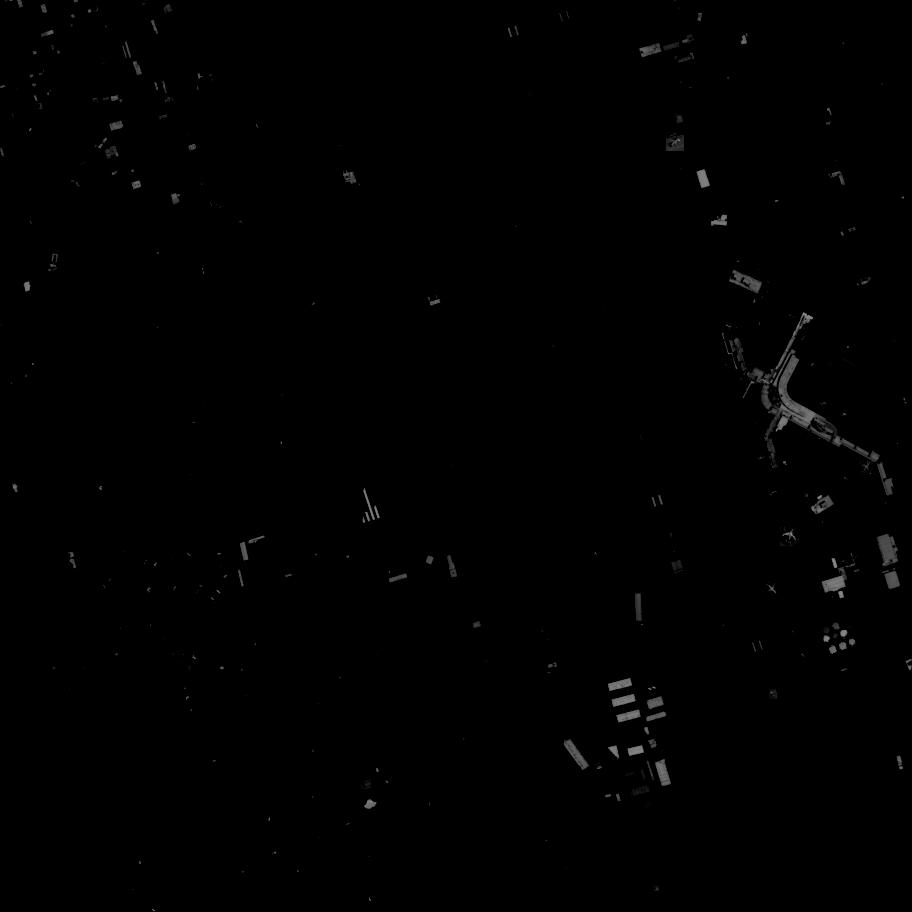plane: (782, 492, 806, 516), (773, 512, 796, 534), (763, 577, 784, 599), (780, 526, 799, 547), (763, 484, 784, 502), (667, 134, 685, 153), (814, 515, 832, 534), (798, 487, 816, 506), (817, 476, 836, 492), (749, 419, 765, 433), (772, 505, 789, 518), (878, 498, 892, 512), (860, 461, 874, 474), (762, 357, 775, 371), (794, 689, 807, 702), (761, 473, 774, 486), (780, 458, 793, 471), (770, 341, 783, 354), (840, 472, 854, 484), (747, 431, 761, 443), (673, 162, 686, 174), (734, 255, 746, 268), (783, 311, 796, 323), (716, 282, 728, 294), (778, 466, 790, 478), (733, 324, 745, 336), (755, 454, 768, 465), (804, 455, 816, 466), (866, 471, 878, 482), (868, 482, 880, 493), (741, 329, 753, 340), (473, 201, 484, 212), (758, 294, 769, 305), (717, 319, 728, 330), (753, 265, 763, 276), (808, 599, 819, 609), (824, 446, 834, 456), (746, 346, 756, 356), (736, 375, 746, 385), (763, 287, 774, 296), (676, 78, 687, 87), (765, 278, 776, 287), (779, 450, 790, 459), (803, 669, 812, 680), (797, 651, 808, 660), (804, 437, 813, 447), (749, 538, 759, 547), (726, 322, 735, 332), (776, 335, 787, 343), (769, 690, 778, 699), (592, 550, 601, 559), (720, 353, 729, 362), (722, 362, 731, 371), (757, 322, 766, 330), (794, 430, 802, 438), (754, 444, 762, 452), (758, 414, 766, 422), (703, 332, 710, 339), (854, 458, 861, 464), (625, 212, 631, 219), (751, 300, 758, 306), (773, 473, 780, 479), (774, 432, 780, 439), (791, 629, 797, 636), (785, 606, 791, 612), (717, 339, 722, 345), (469, 216, 474, 220)
storage-tank: (837, 641, 848, 652), (821, 625, 832, 636), (821, 636, 832, 646), (828, 645, 838, 655), (848, 638, 857, 648), (831, 633, 840, 642), (832, 622, 841, 631), (750, 37, 759, 45), (840, 631, 848, 637)
